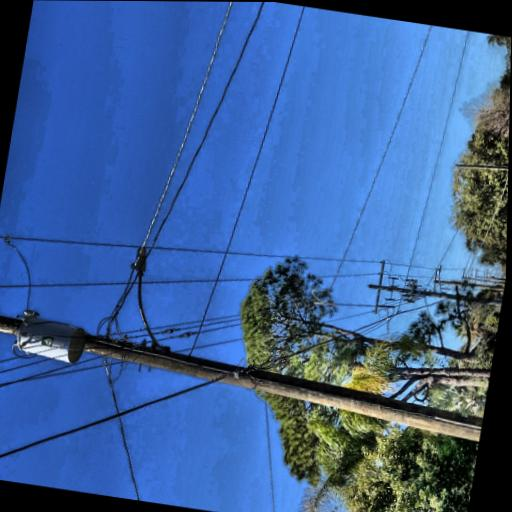pole: (0, 74, 62, 480)
street light: (3, 268, 105, 338)
transformer: (0, 152, 46, 234)
